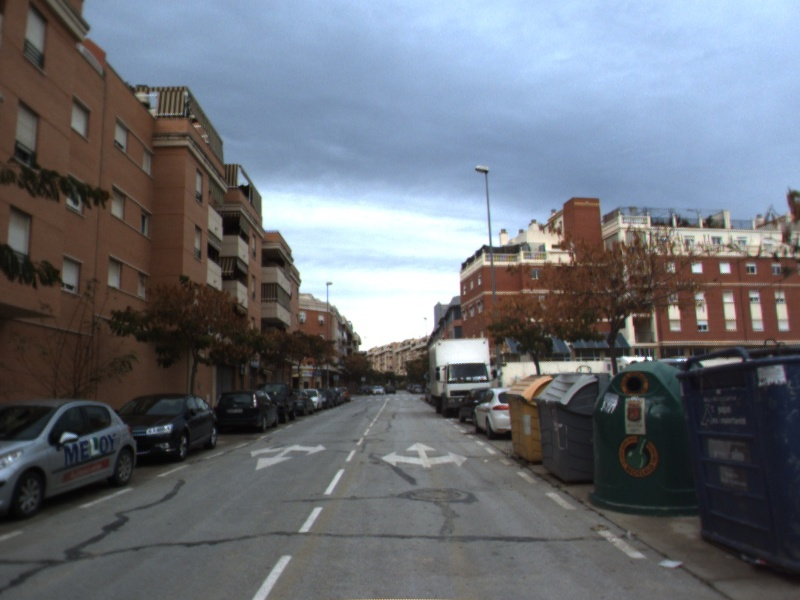STRAIGHT_LEFT_RIGHT: (379, 440, 470, 470)
